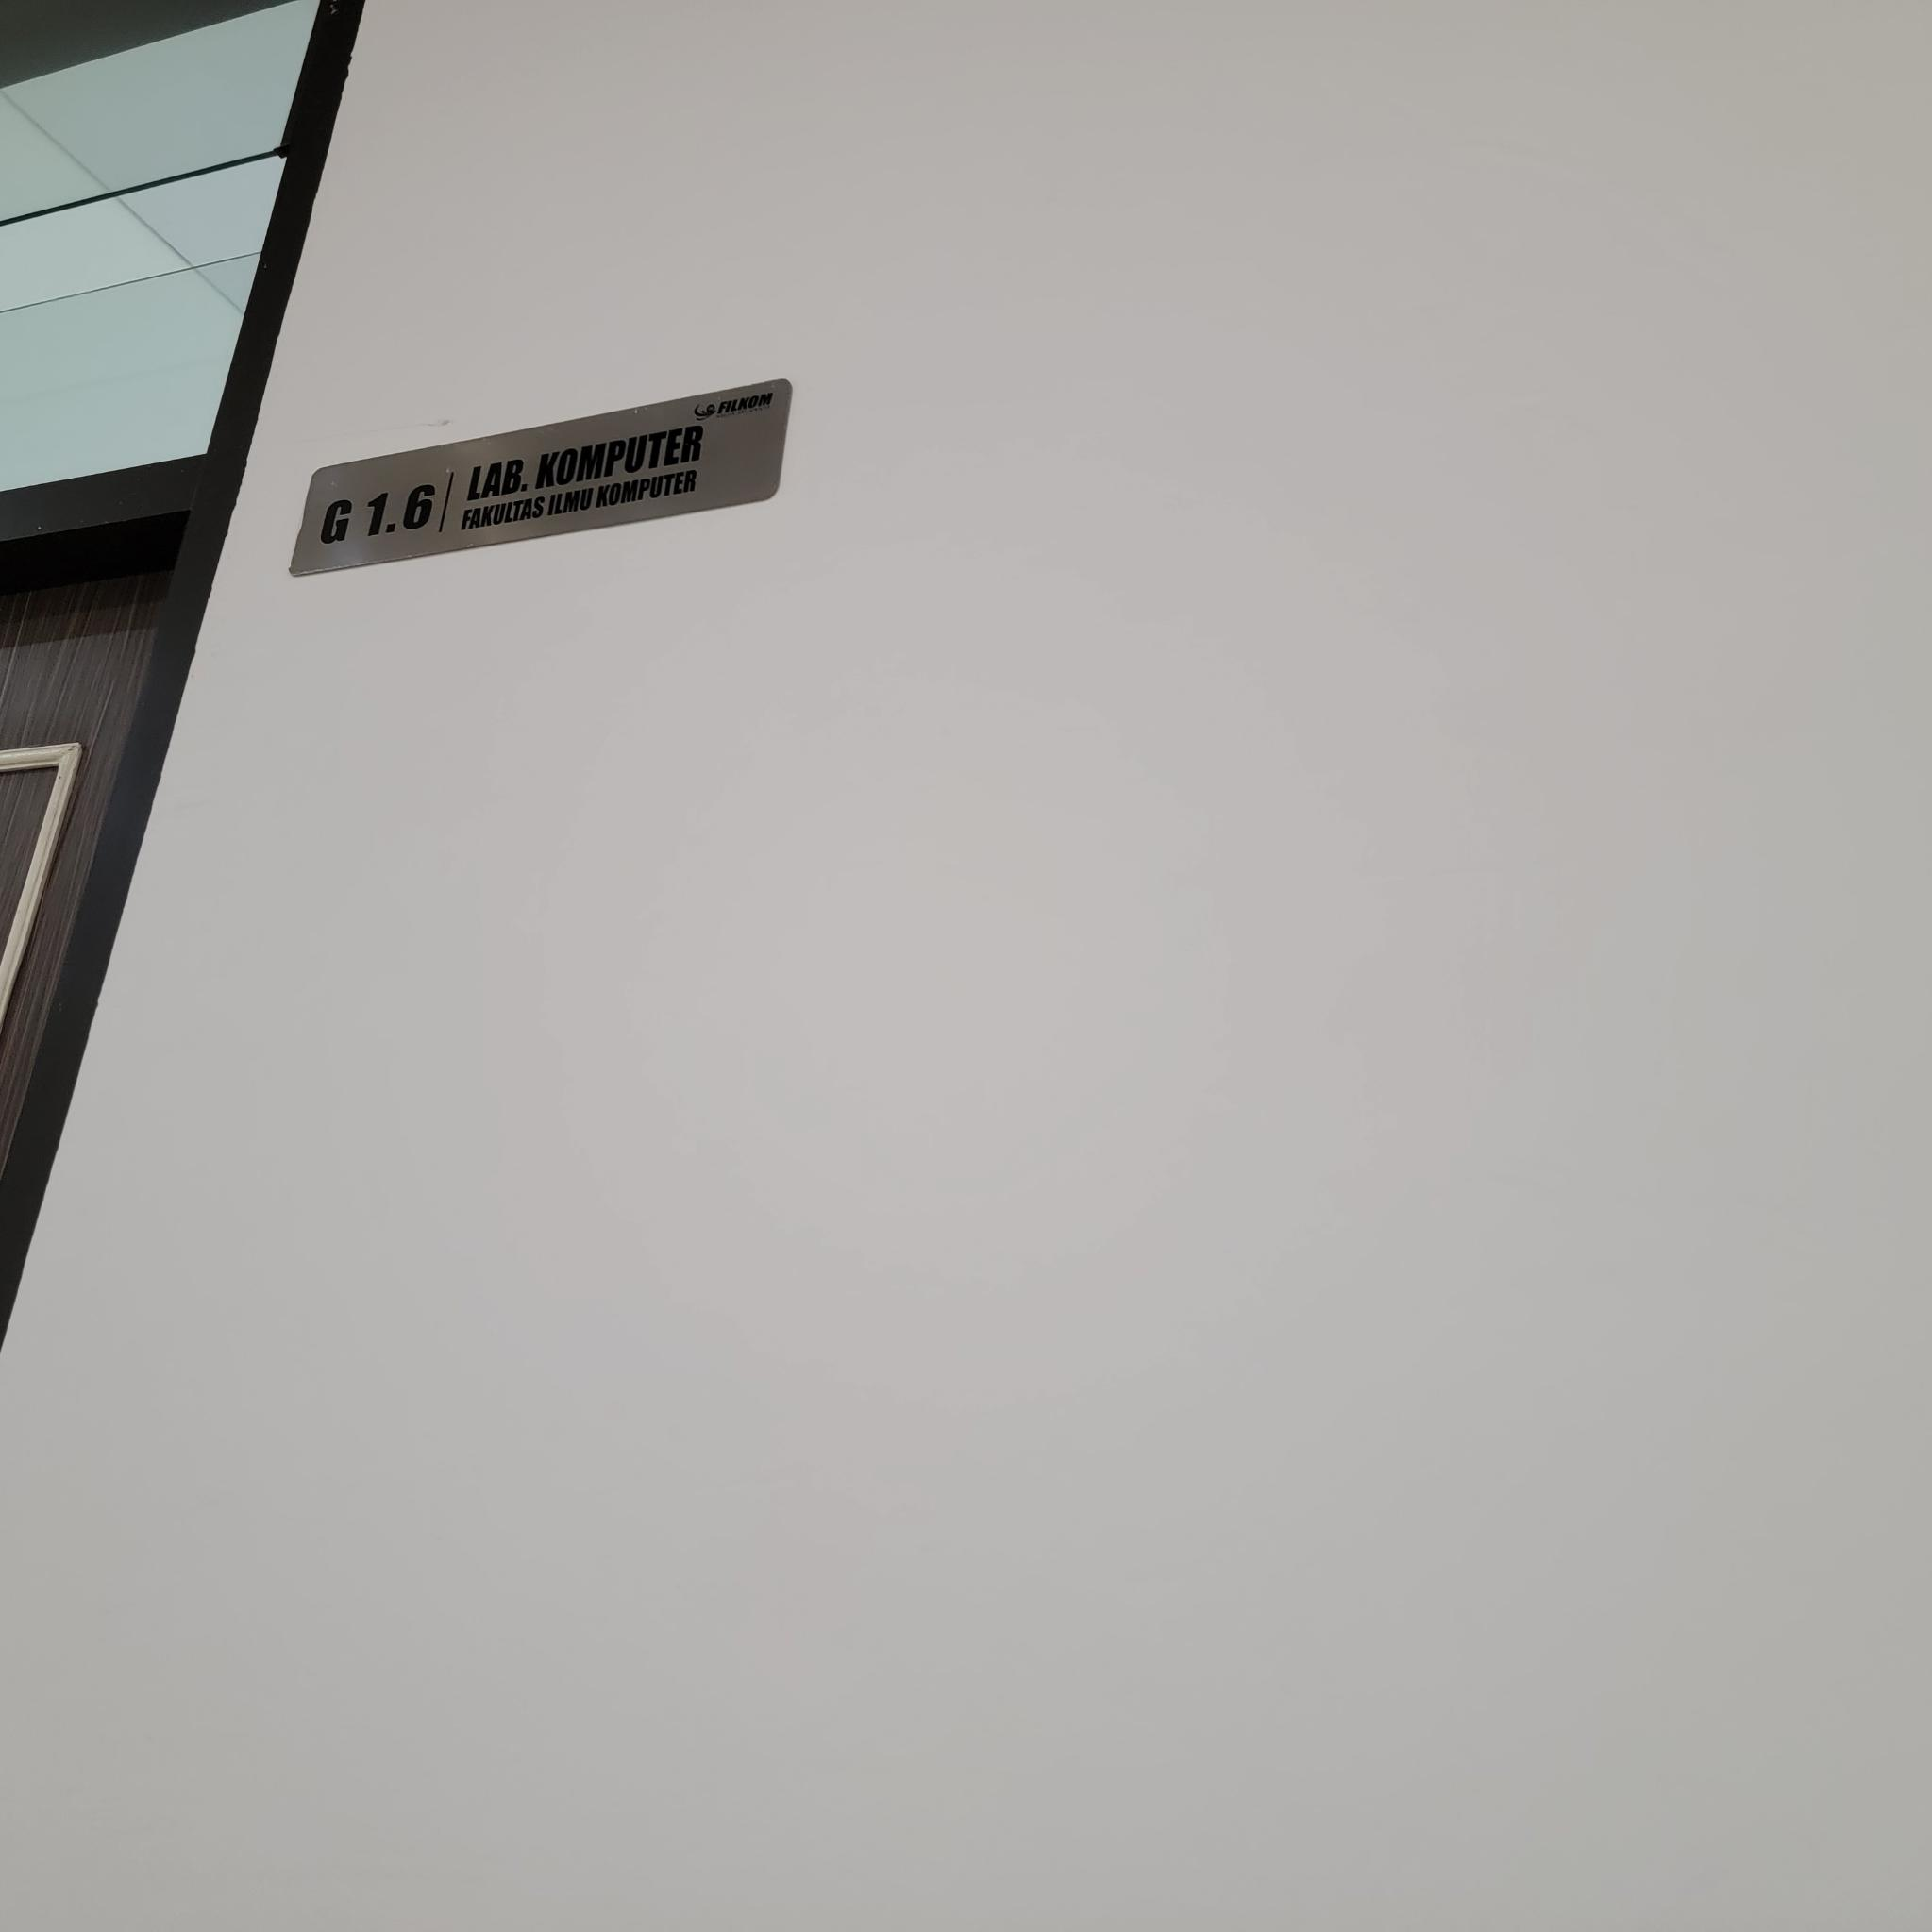plate: (288, 379, 794, 577)
